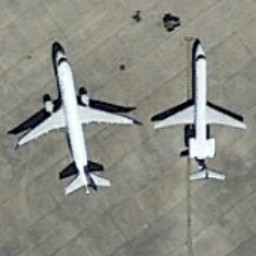Airplane: (8, 41, 143, 206), (148, 30, 251, 189)
